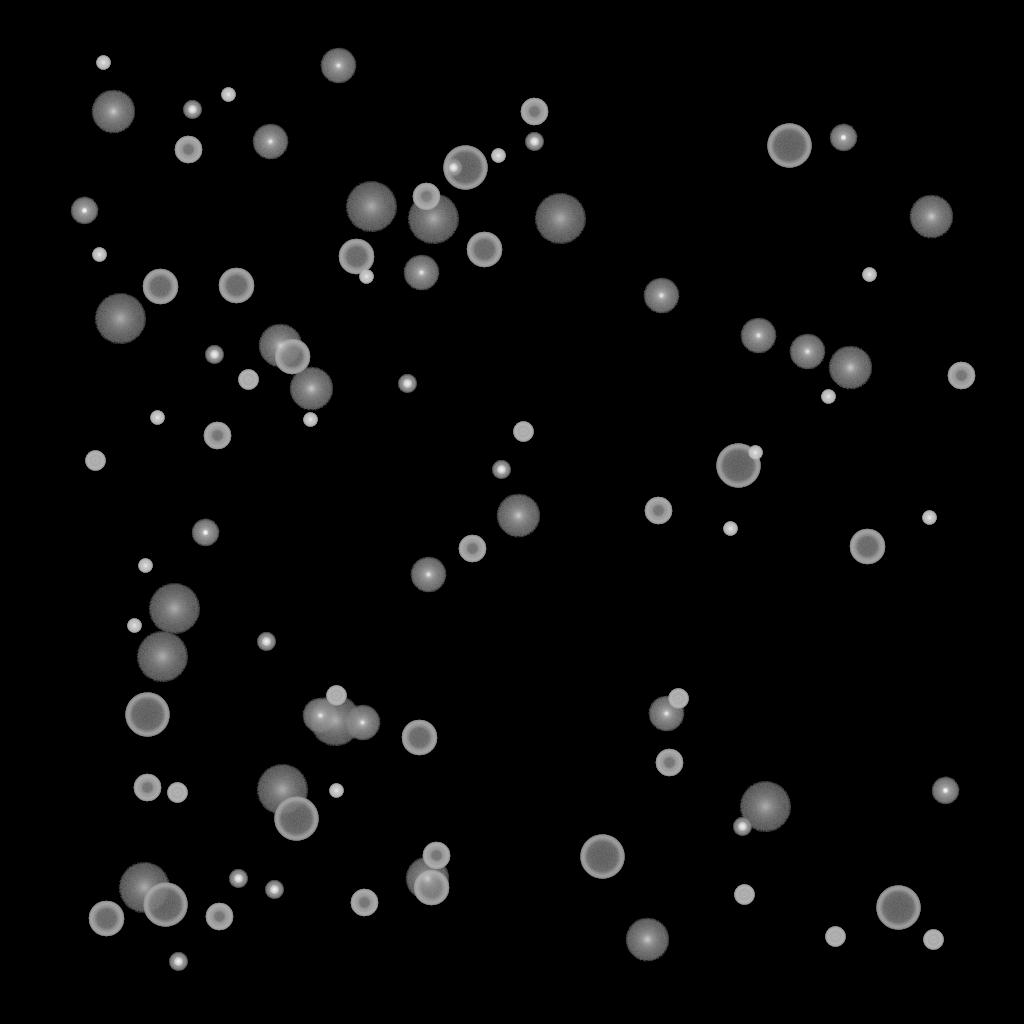depth:-10: (829, 124, 857, 152), (931, 777, 959, 805), (191, 519, 219, 547), (70, 197, 98, 225)
depth:-20: (183, 101, 201, 119), (229, 870, 247, 888), (169, 953, 187, 971), (525, 133, 543, 151), (444, 159, 462, 177), (492, 461, 510, 479), (257, 633, 275, 651), (265, 881, 283, 899), (398, 375, 416, 393), (205, 346, 223, 364), (733, 818, 751, 836)
depth:-30: (821, 390, 835, 404), (359, 270, 373, 284), (303, 413, 317, 427), (329, 784, 343, 798), (150, 411, 164, 425), (138, 559, 152, 573), (221, 88, 235, 102), (92, 248, 106, 262), (748, 446, 762, 460), (723, 522, 737, 536), (491, 149, 505, 163), (922, 511, 936, 525), (96, 56, 110, 70), (127, 619, 141, 633), (862, 268, 876, 282)
depth:-40: (923, 930, 943, 950), (167, 783, 187, 803), (326, 686, 346, 706), (825, 927, 845, 947), (85, 451, 105, 471), (734, 885, 754, 905), (668, 689, 688, 709), (238, 370, 258, 390), (513, 422, 533, 442)
depth:-50: (947, 362, 975, 390), (422, 842, 450, 870), (133, 774, 161, 802), (520, 98, 548, 126), (350, 889, 378, 917), (412, 183, 440, 211), (205, 903, 233, 931), (458, 535, 486, 563), (655, 749, 683, 777), (203, 422, 231, 450), (174, 136, 202, 164), (644, 497, 672, 525)
depth:-60: (849, 529, 885, 565), (218, 268, 254, 304), (274, 339, 310, 375), (413, 870, 449, 906), (88, 901, 124, 937), (401, 720, 437, 756), (142, 269, 178, 305), (338, 239, 374, 275), (466, 232, 502, 268)
depth:-70: (716, 444, 760, 488), (125, 693, 169, 737), (876, 886, 920, 930), (580, 835, 624, 879), (143, 883, 187, 927), (767, 124, 811, 168), (274, 797, 318, 841), (443, 146, 487, 190)
depth:0: (789, 334, 825, 370), (410, 557, 446, 593), (648, 696, 684, 732), (320, 48, 356, 84), (643, 278, 679, 314), (344, 705, 380, 741), (302, 698, 338, 734), (403, 255, 439, 291), (740, 318, 776, 354), (252, 124, 288, 160)
depth:10: (909, 195, 953, 239), (289, 367, 333, 411), (828, 346, 872, 390), (91, 90, 135, 134), (625, 918, 669, 962), (258, 324, 302, 368), (405, 857, 449, 901), (496, 494, 540, 538)
depth:20: (534, 194, 586, 244), (136, 632, 188, 682), (148, 584, 200, 634), (739, 782, 791, 832), (118, 863, 170, 913), (309, 696, 361, 746), (407, 194, 459, 244), (256, 765, 308, 815), (345, 182, 397, 232), (94, 294, 146, 344)
